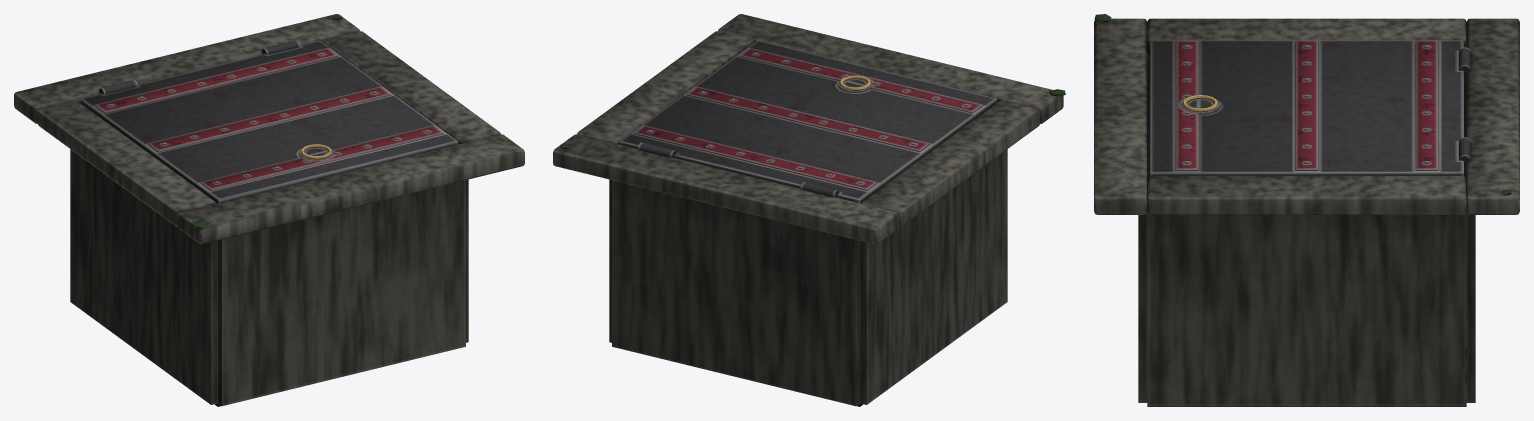
File: CellarHatch.fbx
3 views of the same model, side by side, from view 1: azimuth 30°, elevation 25°; view 2: azimuth 150°, elevation 25°; view 3: azimuth 270°, elevation 25° (orthographic). The views are drawn at different scales.
Parts seen in each view (by area): view 1: CellarHatch_Main, CellarHatch_Leaf0; view 2: CellarHatch_Main, CellarHatch_Leaf0; view 3: CellarHatch_Main, CellarHatch_Leaf0.
Part boxes in pixels (x1=…): CellarHatch_Main: x1=14, y1=14, x2=524, y2=406; CellarHatch_Leaf0: x1=80, y1=40, x2=458, y2=203; CellarHatch_Main: x1=553, y1=14, x2=1065, y2=406; CellarHatch_Leaf0: x1=619, y1=40, x2=997, y2=203; CellarHatch_Main: x1=1094, y1=14, x2=1519, y2=406; CellarHatch_Leaf0: x1=1150, y1=40, x2=1470, y2=175.
Bounding box in the file's own units: 485 × 296 × 480.
